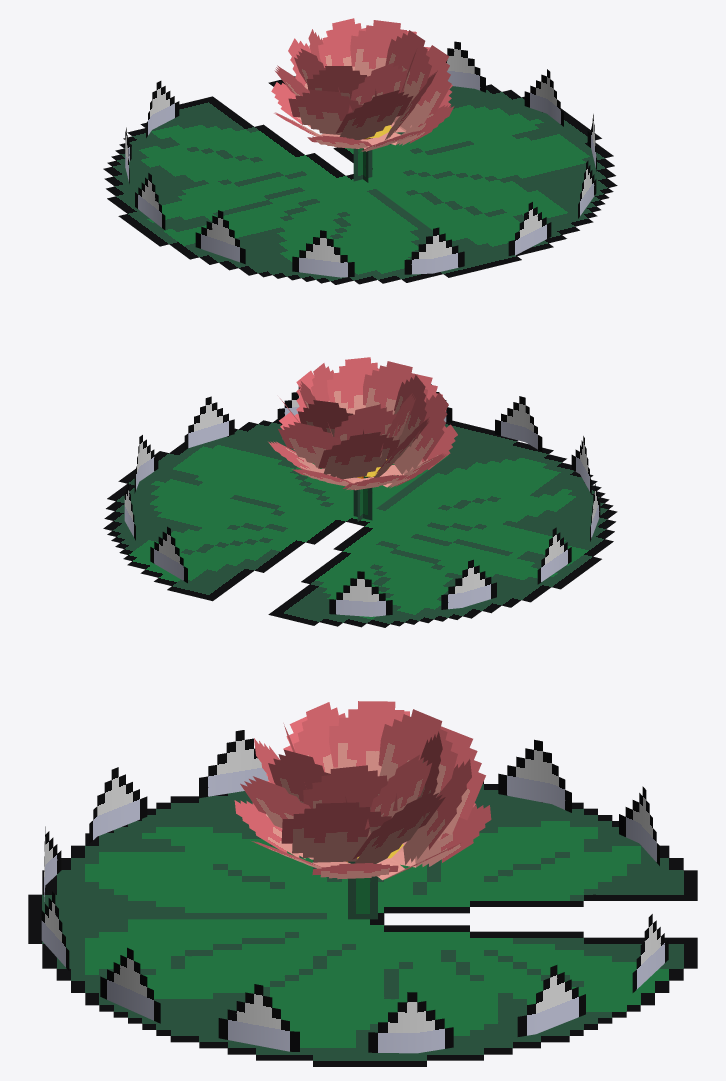
File: Lotus.fbx
3 renders of one model, top to bottom at view 1: azimuth 30°, elevation 25°; view 2: azimuth 150°, elevation 25°; view 3: azimuth 270°, elevation 25°, orthographic. The views are drawn at different scales.
Visible parts, largest first — view 1: LeftTrap, RightTrap, Plant.001; view 2: LeftTrap, RightTrap, Plant.001; view 3: RightTrap, LeftTrap, Plant.001.
Boxes of the visible parts, <box> form: LeftTrap: <box>103,81,514,284</box>; RightTrap: <box>268,41,617,268</box>; Plant.001: <box>271,18,454,182</box>; LeftTrap: <box>268,396,617,627</box>; RightTrap: <box>103,384,484,601</box>; Plant.001: <box>268,357,457,521</box>; RightTrap: <box>28,891,697,1066</box>; LeftTrap: <box>28,730,697,919</box>; Plant.001: <box>234,701,491,919</box>.
Size of the model in its own units: 400 by 119 by 400.
Materials: 1 (1 with a texture image).
